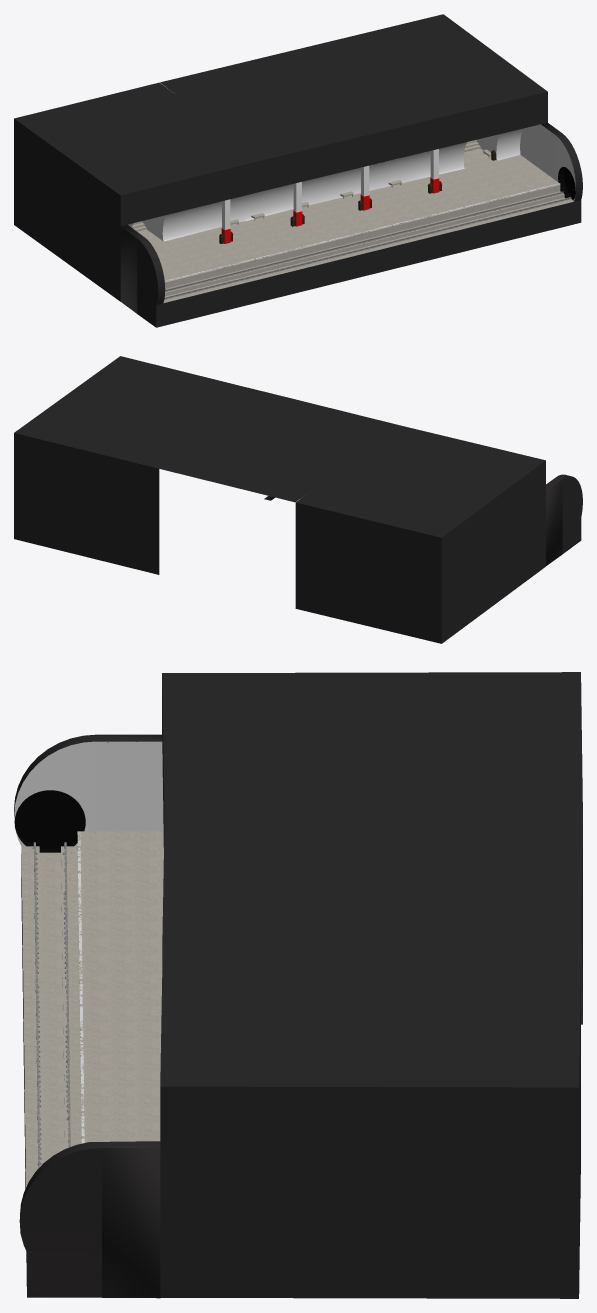
The model's file is Station.glb.
The picture shows the model from 3 angles, top to bottom: view 1: azimuth 30°, elevation 25°; view 2: azimuth 150°, elevation 25°; view 3: azimuth 270°, elevation 25°; orthographic projection. The views are drawn at different scales.
Parts seen in each view (by area): view 1: Object_16.001, Object_16, Object_16.002, Object_16.003, Object_85.009, Object_85.002, Object_85.001, Object_16.006, Object_16.004, Object_29.014, Object_29, Object_29.001 (+6 smaller); view 2: Object_16.001, Object_16, Object_16.002, Object_16.003; view 3: Object_16, Object_16.001, Object_16.002, Object_16.005, Object_85.001, Object_85.002, Object_29.008, Object_85.003, Object_85.006, Object_85.009, Object_108.001, Object_85.010 (+1 smaller).
Boxes of the visible parts, x1,y1,x2,y2 form: Object_16.001: [14, 82, 264, 301]; Object_16: [297, 14, 547, 157]; Object_16.002: [160, 49, 403, 190]; Object_16.003: [120, 224, 293, 327]; Object_85.009: [381, 155, 560, 225]; Object_85.002: [244, 188, 422, 258]; Object_85.001: [151, 221, 286, 288]; Object_16.006: [429, 201, 574, 260]; Object_16.004: [293, 237, 429, 293]; Object_29.014: [245, 162, 384, 220]; Object_29: [381, 128, 522, 187]; Object_29.001: [128, 195, 247, 241]; Object_16.001: [295, 425, 545, 643]; Object_16: [14, 356, 264, 574]; Object_16.002: [159, 392, 400, 502]; Object_16.003: [546, 474, 582, 565]; Object_16: [160, 945, 580, 1298]; Object_16.001: [162, 672, 582, 1024]; Object_16.002: [162, 813, 582, 958]; Object_16.005: [19, 1141, 160, 1298]; Object_85.001: [77, 831, 163, 966]; Object_85.002: [79, 964, 162, 1098]; Object_29.008: [14, 741, 163, 846]; Object_85.003: [21, 842, 79, 986]; Object_85.006: [23, 975, 81, 1119]; Object_85.009: [81, 1096, 160, 1142]; Object_108.001: [14, 790, 85, 852]; Object_85.010: [25, 1107, 81, 1187].
Bounding box in the file's own units: 676 × 161 × 391.
16 materials, 8 textured.
